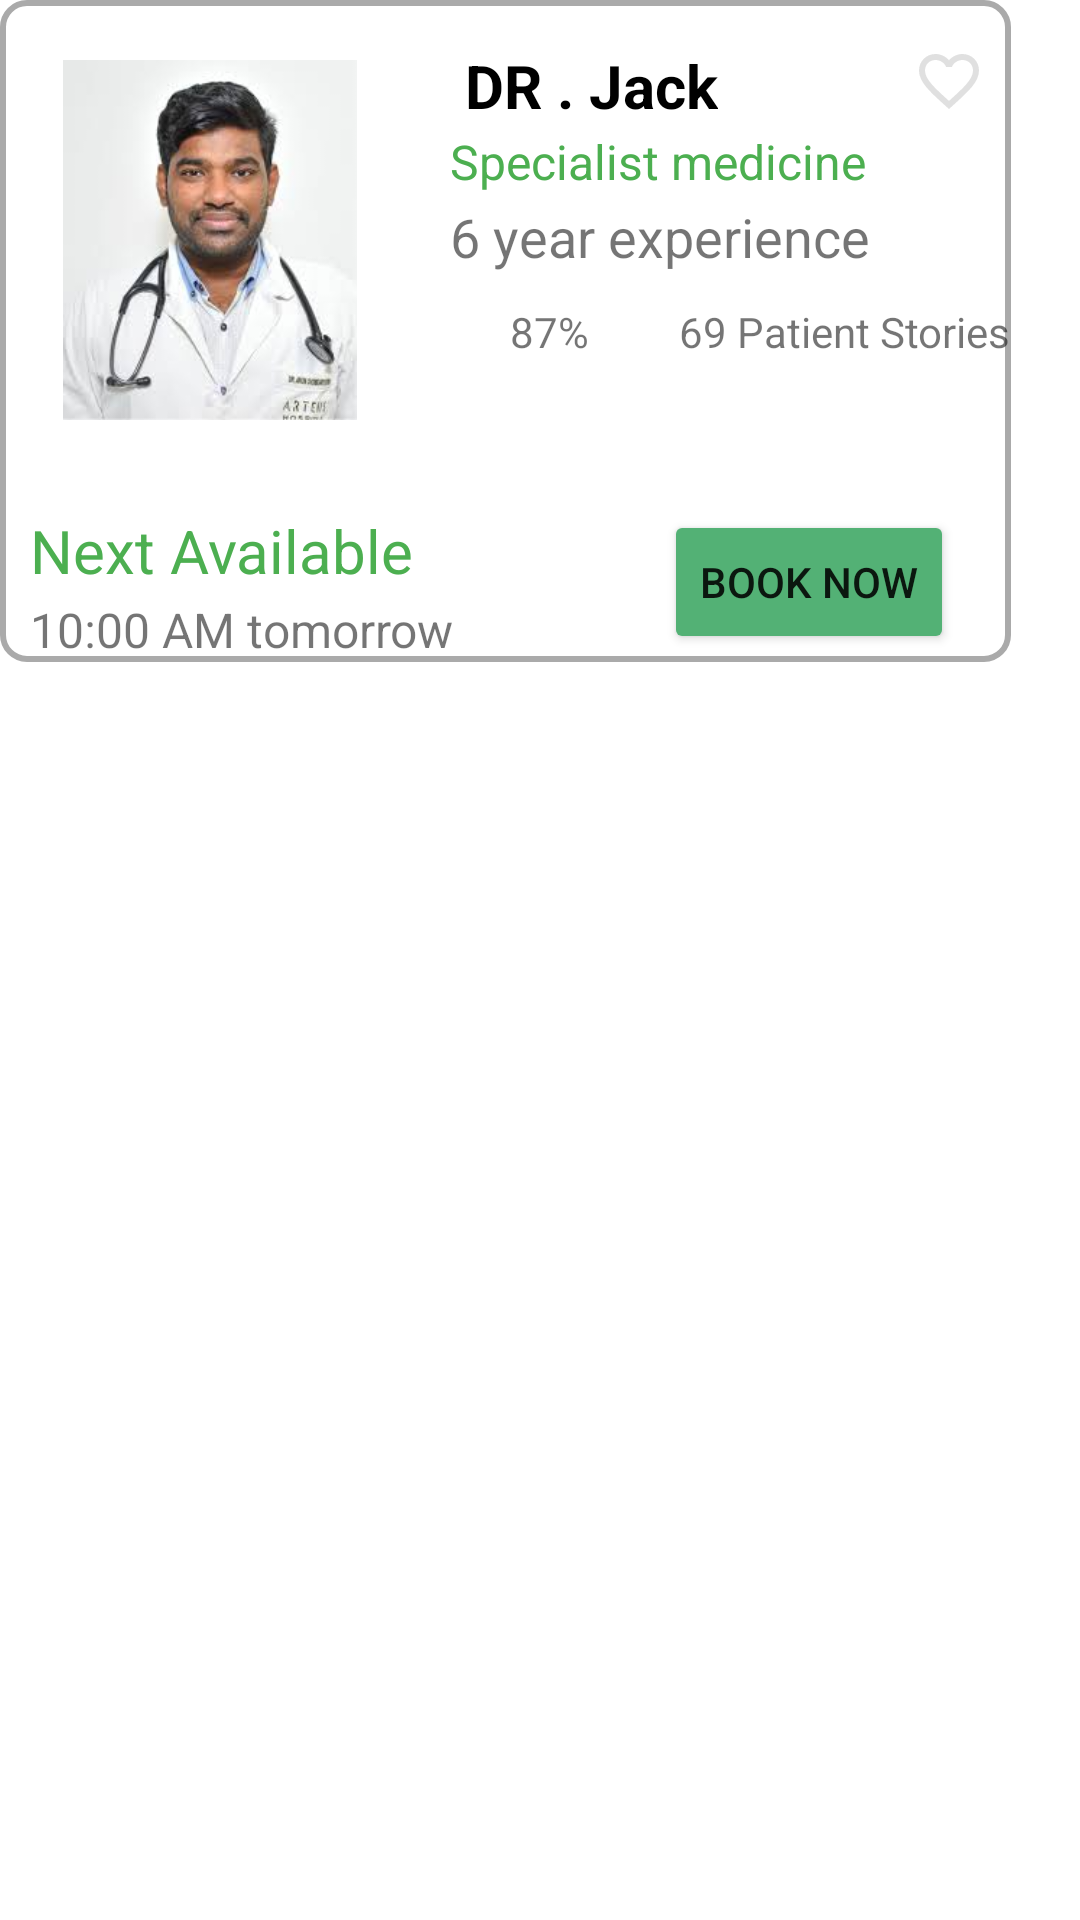

Named icons in this screenshot (1080 × 1920) and their bounding boxes, (x1, y1, x2, y2):
favorite border: (919, 54, 979, 108)
